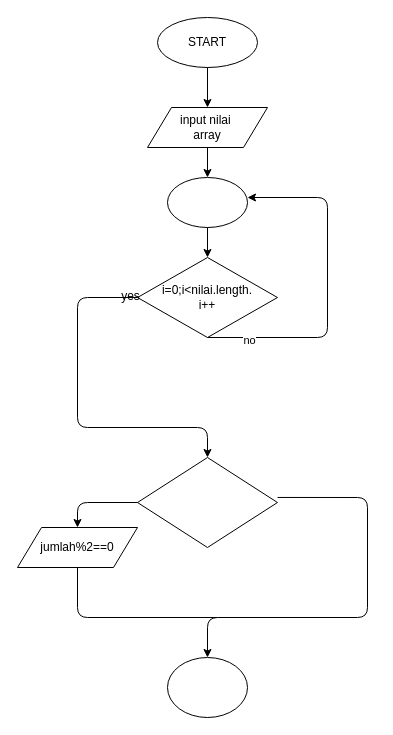
Image size: 393x735. Some labels were removed from this diagram. The shapes that lost their labels are listed below. From the top down, each one's centre as x and y in pixels, then its label:
At point (207, 202): "loop".
At point (207, 502): "nilai [1]%2==0".
